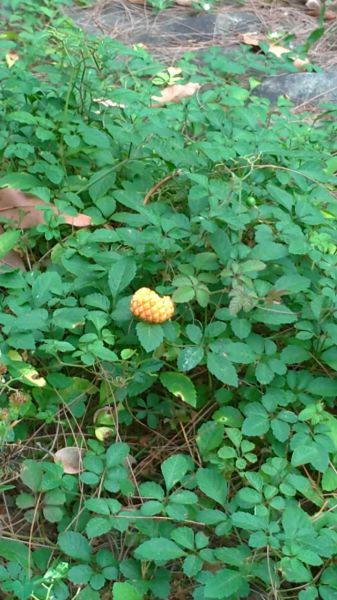eggs: (124, 285, 179, 325)
